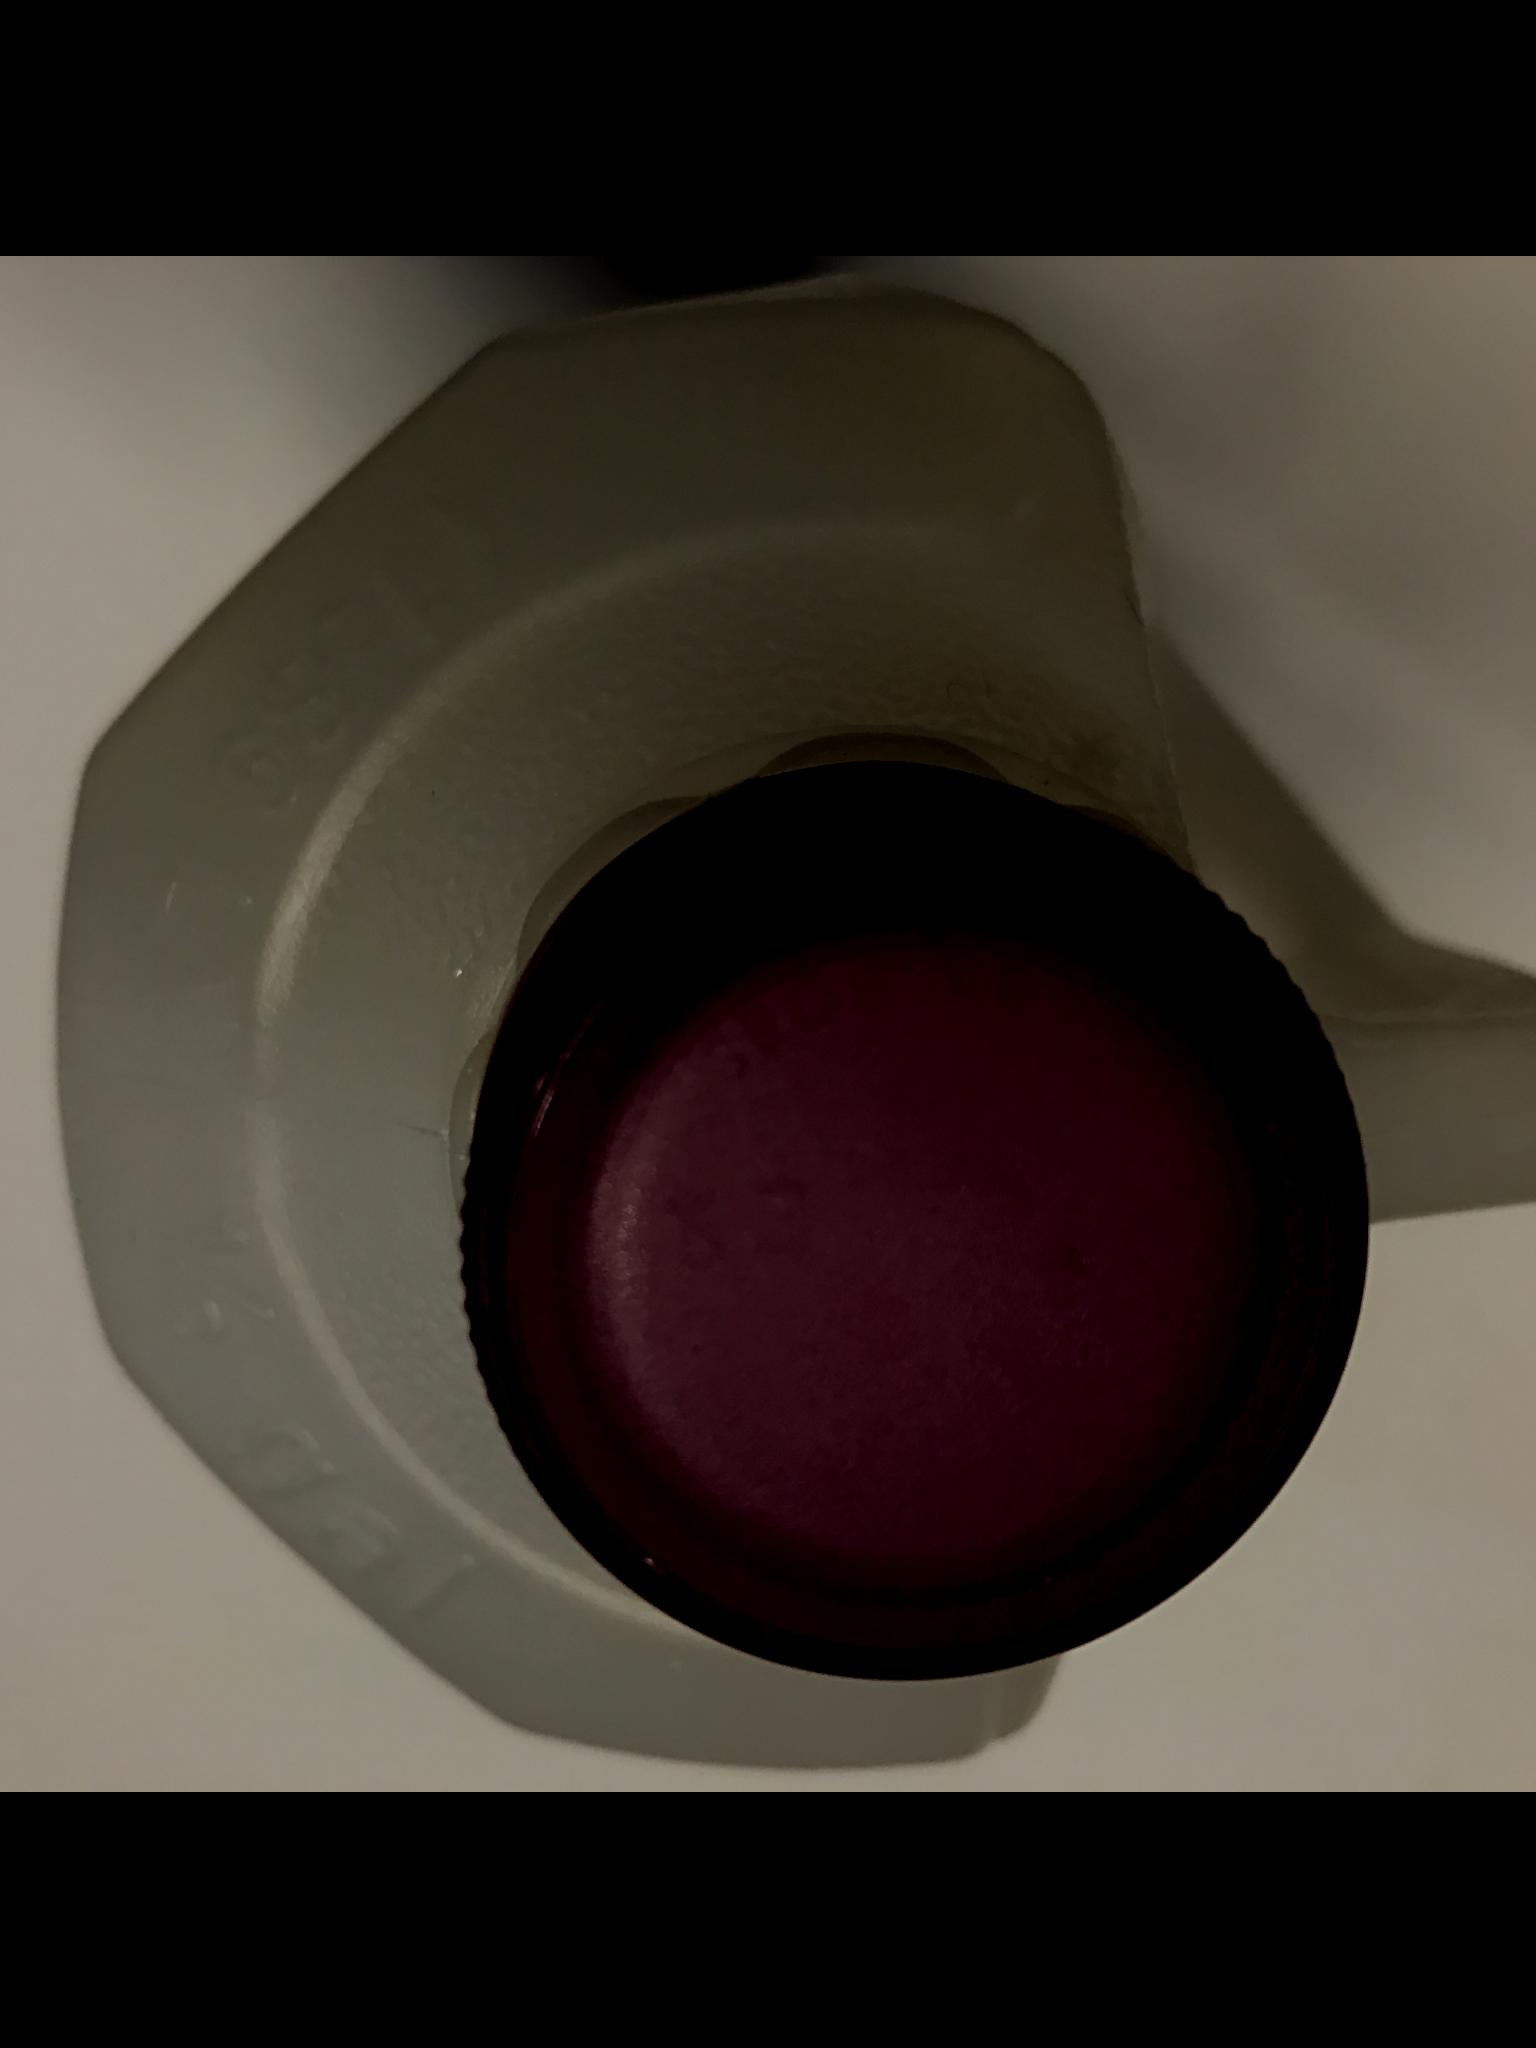Plastic: (34, 256, 1534, 1792)
